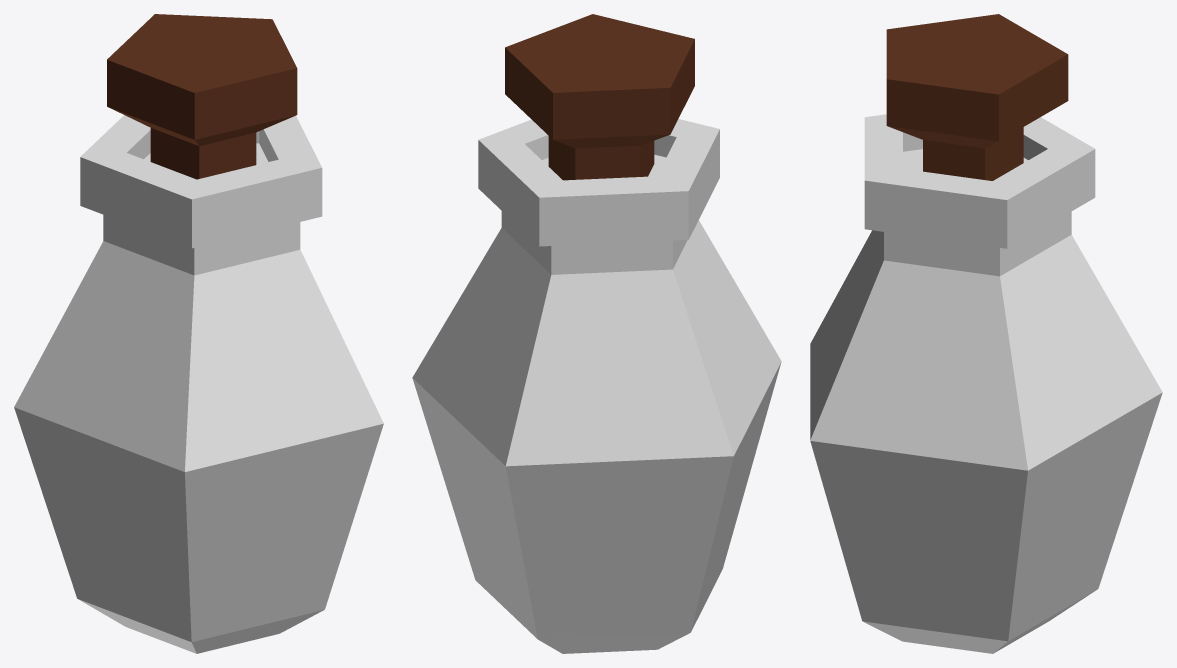
Rendered from potion5.glb.
3 renders of one model, left to right at view 1: azimuth 30°, elevation 25°; view 2: azimuth 150°, elevation 25°; view 3: azimuth 270°, elevation 25°, orthographic.
Visible parts, largest first — view 1: Potion5; view 2: Potion5; view 3: Potion5.
Boxes of the visible parts, <box> form: Potion5: <box>14,14,383,653</box>; Potion5: <box>412,14,781,653</box>; Potion5: <box>810,14,1162,653</box>.
Size of the model in its own units: 0.4697 by 0.7927 by 0.4467.
